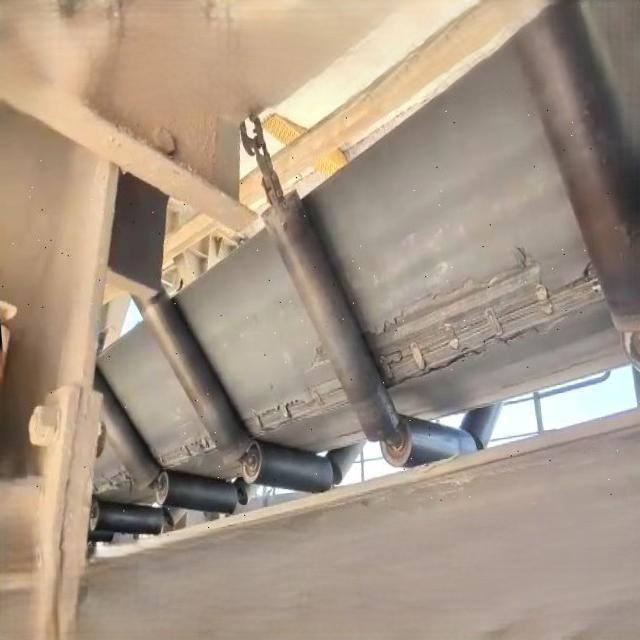Tear: (362, 244, 614, 400), (242, 376, 340, 444), (152, 430, 219, 472)
